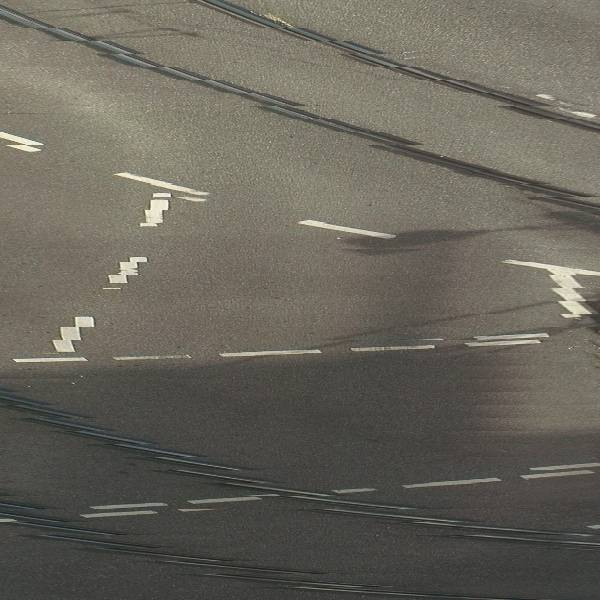road_damage: (39, 20, 597, 213), (8, 393, 600, 551)
